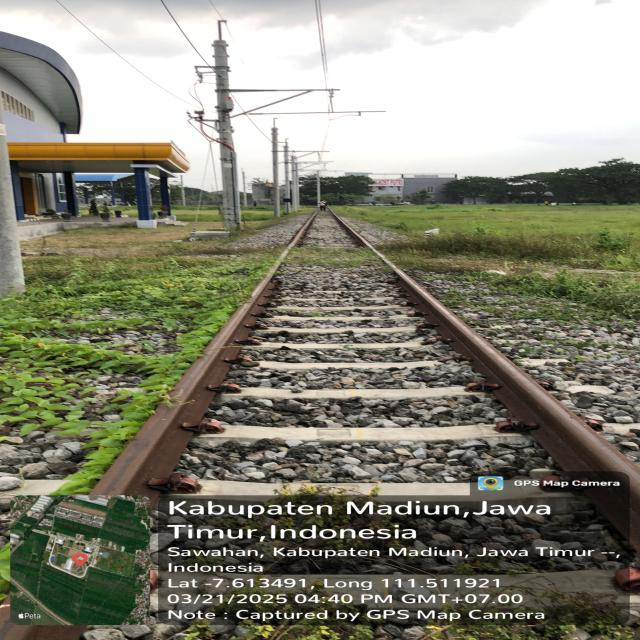rail-detection: (331, 212, 640, 551), (91, 214, 315, 506)
